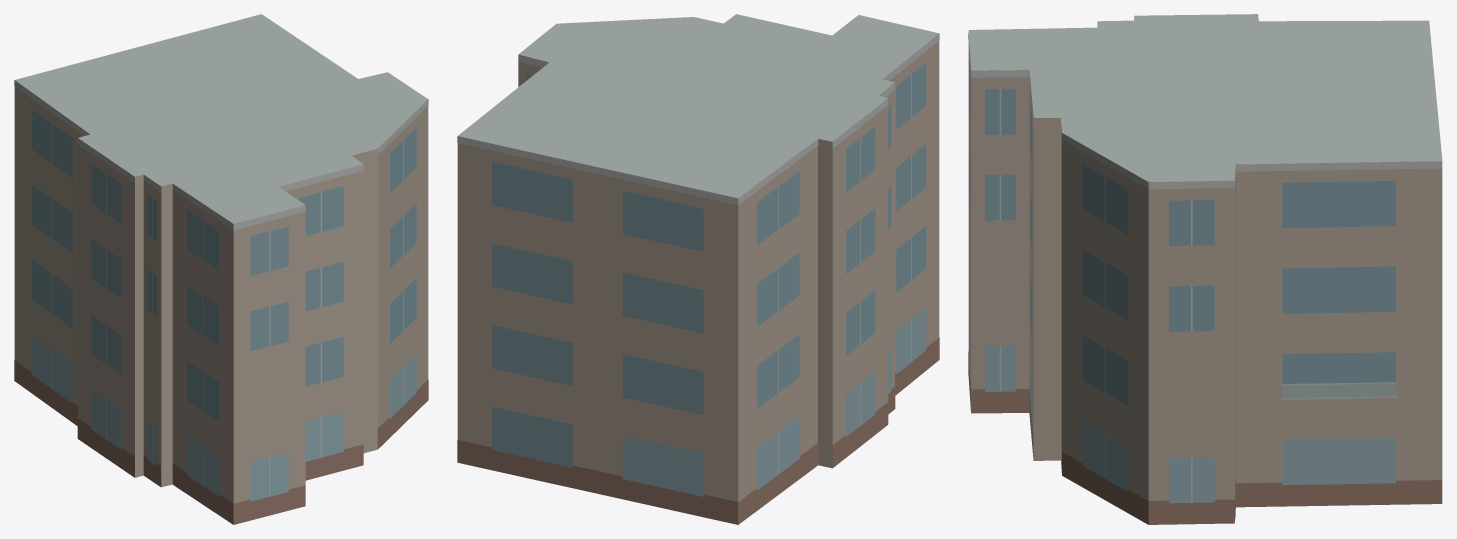
The model's file is survey-upis-32972819.glb.
3 views of the same model, side by side, from view 1: azimuth 30°, elevation 25°; view 2: azimuth 150°, elevation 25°; view 3: azimuth 270°, elevation 25° (orthographic). The views are drawn at different scales.
Parts seen in each view (by area): view 1: survey-upis-32972819.tmp; view 2: survey-upis-32972819.tmp; view 3: survey-upis-32972819.tmp.
Boxes of the visible parts, x1,y1,x2,y2 form: survey-upis-32972819.tmp: (14,14,428,524); survey-upis-32972819.tmp: (457,14,939,524); survey-upis-32972819.tmp: (968,14,1442,524).
Size of the model in its own units: 12.08 by 11.47 by 14.39.
